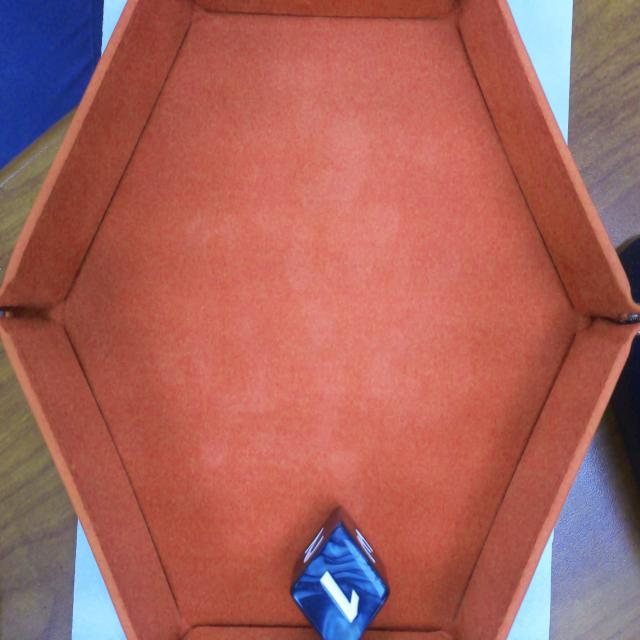dice: (300, 534, 385, 638)
